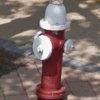Hydrant: (24, 5, 80, 97)
